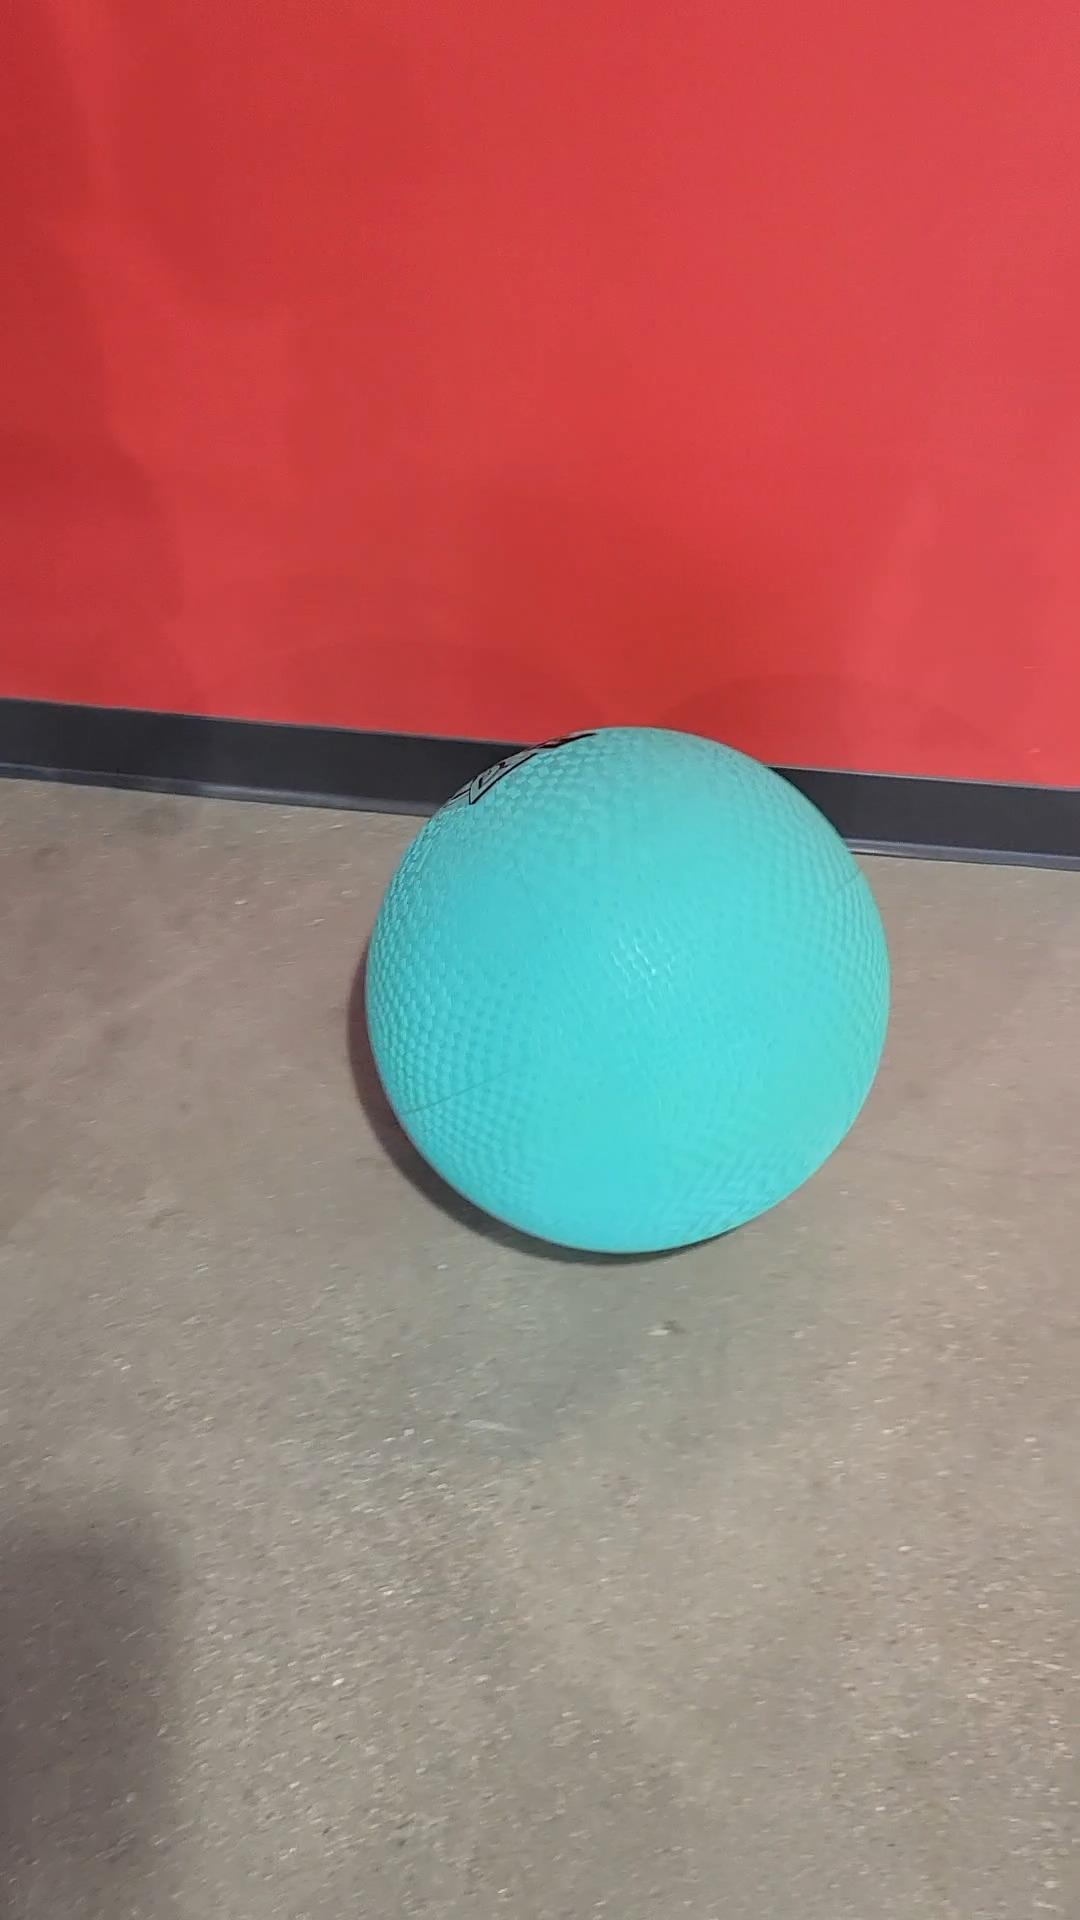algae: (371, 731, 878, 1249)
